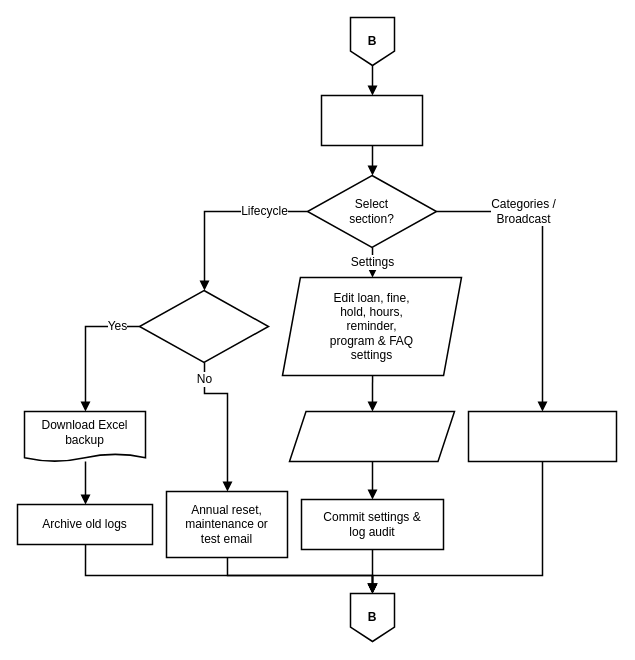
The diagram is 635 pixels wide and 660 high, and some of its shapes have lost their labels. Here are the shapes that lost their labels. From the top down, the centre of each, then its label:
At [371,120]: "Open System Policies".
At [203,326]: "Archive records?".
At [371,436]: "Enter reason (min 10 chars)".
At [542,436]: "Edit categories or broadcast".
